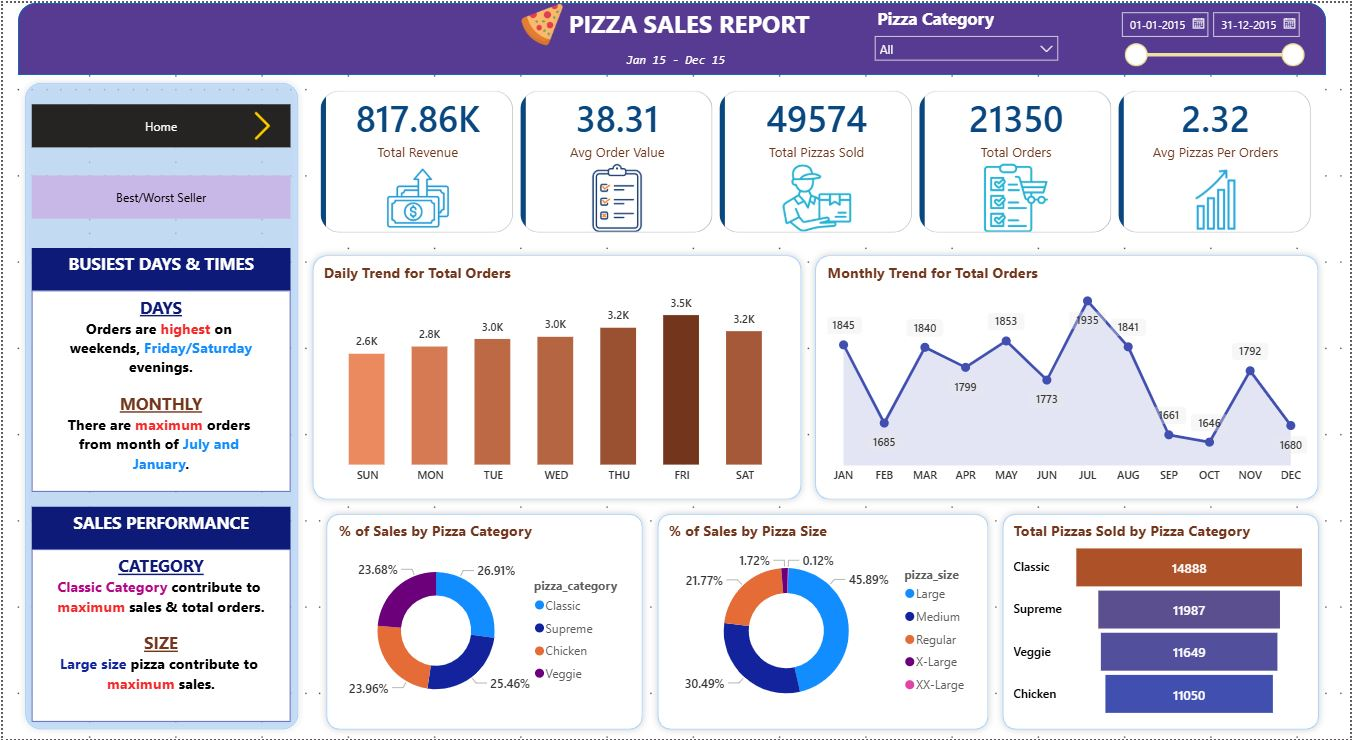

Layout of this report page (visuals, bound fields, positions):
{"tool":"powerbi","page":{"name":"Home","canvas":[1500,820],"ordinal":0},"visuals":[{"type":"cardVisual","fields":{"Data":["pizza_sales.Total Revenue","pizza_sales.Avg Order Value","pizza_sales.Total Pizzas Sold","pizza_sales.Total Orders","pizza_sales.Avg Pizzas Per Orders"]},"box":[336,80,1136,192],"z":0},{"type":"shape","box":[16,0,1456,80],"z":1000},{"type":"textbox","box":[624,0,288,48],"z":2000},{"type":"textbox","box":[688,48,128,32],"z":3000},{"type":"image","box":[576,0,48,48],"z":4000},{"type":"shape","box":[336,272,560,288],"z":5000},{"type":"columnChart","title":"Daily Trend for Total Orders","fields":{"Category":["pizza_sales.Order Day"],"Y":["pizza_sales.Total Orders"]},"box":[352,288,528,256],"z":6000},{"type":"shape","box":[896,272,576,288],"z":7000},{"type":"areaChart","title":"Monthly Trend for Total Orders","fields":{"Category":["pizza_sales.Order Month"],"Y":["pizza_sales.Total Orders"]},"box":[912,288,544,256],"z":8000},{"type":"shape","box":[352,560,368,256],"z":9000},{"type":"shape","box":[720,560,384,256],"z":10000},{"type":"shape","box":[1104,560,368,256],"z":11000},{"type":"donutChart","title":"% of Sales by Pizza Category","fields":{"Category":["pizza_sales.pizza_category"],"Y":["pizza_sales.Total Revenue"]},"box":[368,576,336,224],"z":12000},{"type":"donutChart","title":"% of Sales by Pizza Size","fields":{"Y":["pizza_sales.Total Revenue"],"Category":["pizza_sales.pizza_size"]},"box":[736,576,352,224],"z":13000},{"type":"funnel","title":"Total Pizzas Sold by Pizza Category","fields":{"Category":["pizza_sales.pizza_category"],"Y":["pizza_sales.Total Pizzas Sold"]},"box":[1120,576,336,224],"z":14000},{"type":"shape","box":[16,80,320,736],"z":15000},{"type":"textbox","box":[32,272,288,48],"z":16000},{"type":"textbox","box":[32,320,288,224],"z":17000},{"type":"textbox","box":[32,560,288,48],"z":18000},{"type":"textbox","box":[32,608,288,192],"z":19000},{"type":"slicer","fields":{"Values":["pizza_sales.pizza_category"]},"box":[960,0,224,64],"z":20000},{"type":"slicer","fields":{"Values":["pizza_sales.order_date"]},"box":[1232,0,224,80],"z":21000},{"type":"pageNavigator","box":[32,112,288,48],"z":22000},{"type":"pageNavigator","box":[32,192,288,48],"z":23000},{"type":"image","box":[272,112,32,48],"z":24000}]}

Visuals, with their boxes in screenshot pixels (x1, y1, x2, y2), scaled from the page's 1500x820 canvas onto the 1352x740 screenshot:
cardVisual - pizza_sales.Total Revenue x pizza_sales.Avg Order Value: 303,72,1327,245
shape: 14,0,1327,72
textbox: 562,0,822,43
textbox: 620,43,735,72
image: 519,0,562,43
shape: 303,245,808,505
"Daily Trend for Total Orders" columnChart: 317,260,793,491
shape: 808,245,1327,505
"Monthly Trend for Total Orders" areaChart: 822,260,1312,491
shape: 317,505,649,736
shape: 649,505,995,736
shape: 995,505,1327,736
"% of Sales by Pizza Category" donutChart: 332,520,635,722
"% of Sales by Pizza Size" donutChart: 663,520,981,722
"Total Pizzas Sold by Pizza Category" funnel: 1009,520,1312,722
shape: 14,72,303,736
textbox: 29,245,288,289
textbox: 29,289,288,491
textbox: 29,505,288,549
textbox: 29,549,288,722
slicer - pizza_sales.pizza_category: 865,0,1067,58
slicer - pizza_sales.order_date: 1110,0,1312,72
pageNavigator: 29,101,288,144
pageNavigator: 29,173,288,217
image: 245,101,274,144
